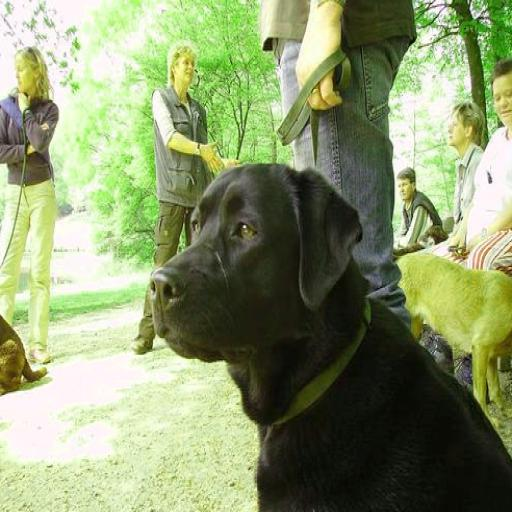dog_face: (146, 165, 348, 372)
